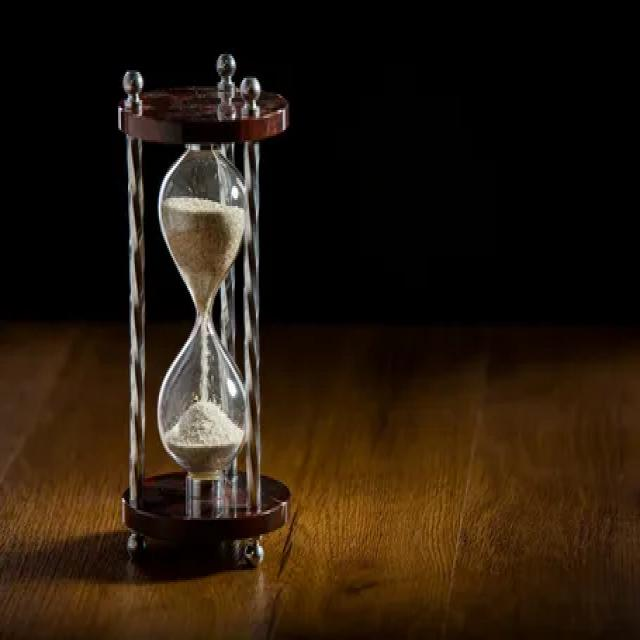clock: (112, 55, 297, 572)
